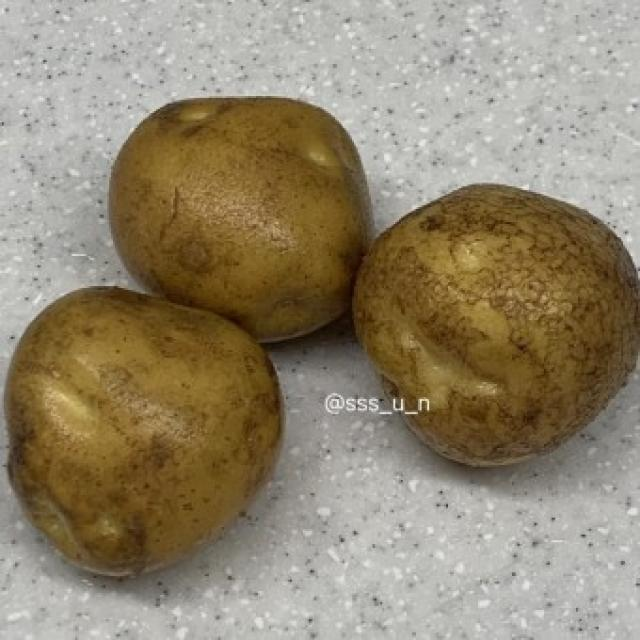potato: (6, 284, 303, 586), (355, 179, 640, 469), (104, 92, 388, 351)
